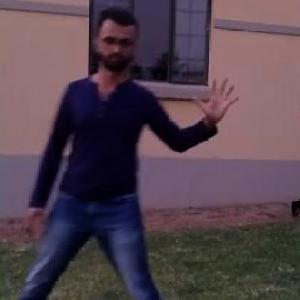follow_hand: (190, 70, 242, 124)
